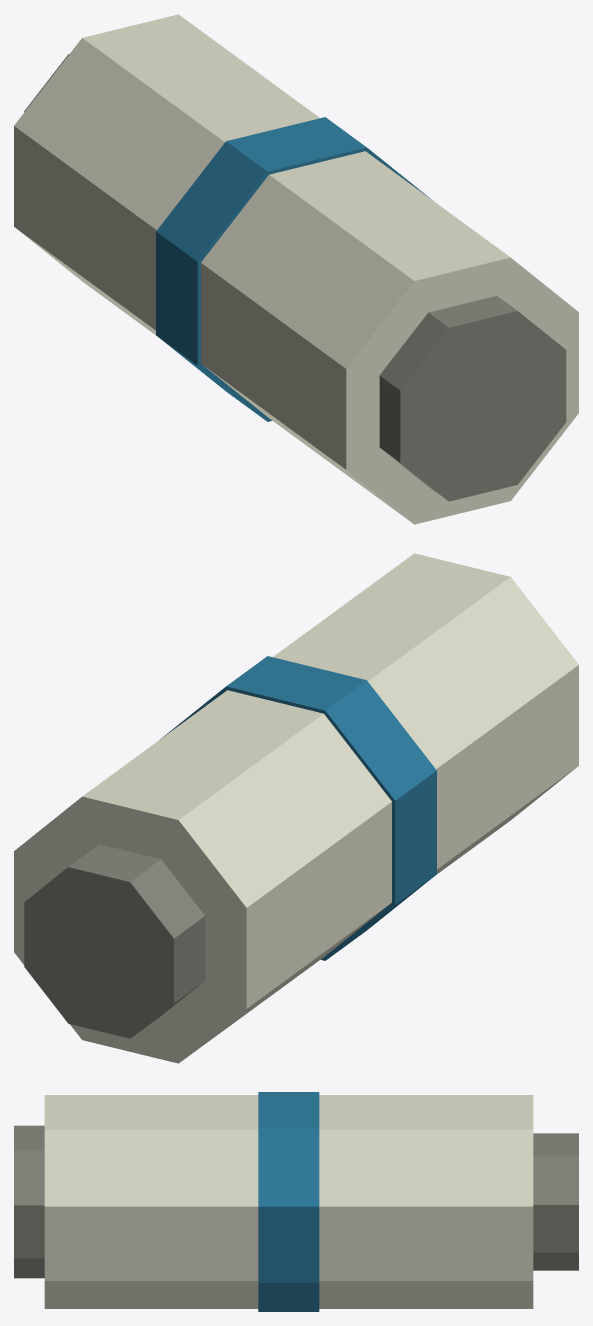
The model's file is ce_ammo_chmag_ion_a.obj.
3 views of the same model, one above another, from view 1: azimuth 30°, elevation 25°; view 2: azimuth 150°, elevation 25°; view 3: azimuth 270°, elevation 25° (orthographic). The views are drawn at different scales.
Parts seen in each view (by area): view 1: ce_ammo_chmag_ion_a_1, ce_ammo_chmag_ion_a_3, ce_ammo_chmag_ion_a_0, ce_ammo_chmag_ion_a_2; view 2: ce_ammo_chmag_ion_a_3, ce_ammo_chmag_ion_a_1, ce_ammo_chmag_ion_a_4, ce_ammo_chmag_ion_a_2; view 3: ce_ammo_chmag_ion_a_1, ce_ammo_chmag_ion_a_3, ce_ammo_chmag_ion_a_2, ce_ammo_chmag_ion_a_4, ce_ammo_chmag_ion_a_0.
Part boxes in pixels (<box>): ce_ammo_chmag_ion_a_1: <box>201,151,578,524</box>; ce_ammo_chmag_ion_a_3: <box>14,14,319,335</box>; ce_ammo_chmag_ion_a_0: <box>379,296,566,501</box>; ce_ammo_chmag_ion_a_2: <box>156,117,431,421</box>; ce_ammo_chmag_ion_a_3: <box>14,690,391,1063</box>; ce_ammo_chmag_ion_a_1: <box>273,553,578,874</box>; ce_ammo_chmag_ion_a_4: <box>24,844,205,1038</box>; ce_ammo_chmag_ion_a_2: <box>161,656,436,960</box>; ce_ammo_chmag_ion_a_1: <box>44,1095,258,1308</box>; ce_ammo_chmag_ion_a_3: <box>319,1095,533,1308</box>; ce_ammo_chmag_ion_a_2: <box>258,1092,319,1311</box>; ce_ammo_chmag_ion_a_4: <box>533,1133,578,1270</box>; ce_ammo_chmag_ion_a_0: <box>14,1125,44,1278</box>.
Bounding box in the file's own units: 0.133 × 0.133 × 0.37.
